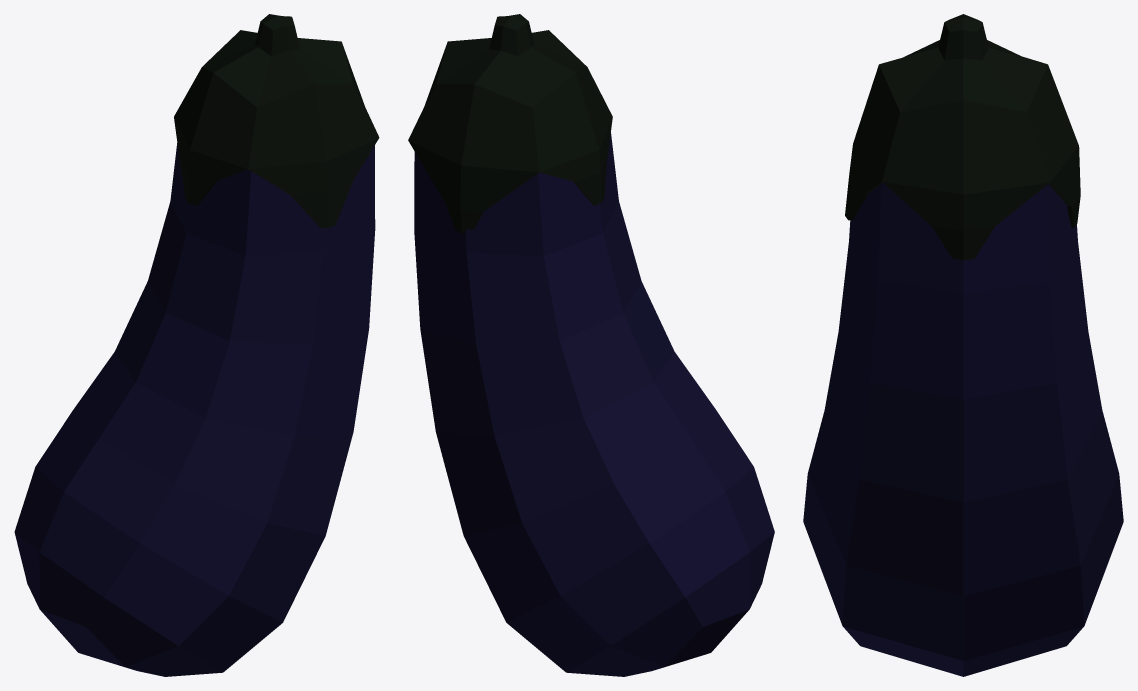
File: Eggplant.obj
The picture shows the model from 3 angles, left to right: view 1: azimuth 30°, elevation 25°; view 2: azimuth 150°, elevation 25°; view 3: azimuth 270°, elevation 25°; orthographic projection. The views are drawn at different scales.
Visible parts, largest first — view 1: Eggplant_Cube.036; view 2: Eggplant_Cube.036; view 3: Eggplant_Cube.036.
Boxes of the visible parts, bbox=[...] form: Eggplant_Cube.036: bbox=[14, 14, 379, 676]; Eggplant_Cube.036: bbox=[408, 14, 774, 676]; Eggplant_Cube.036: bbox=[803, 14, 1123, 676].
Bounding box in the file's own units: 0.9622 × 1.75 × 0.718.
